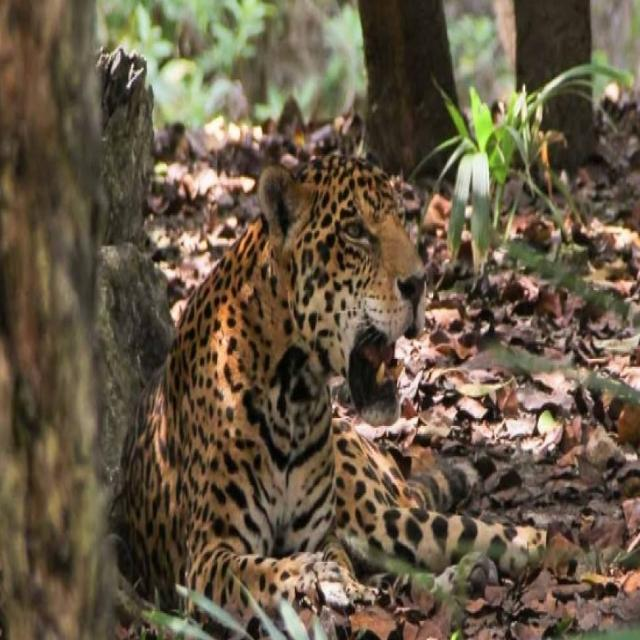Leopard: (114, 148, 538, 598)
